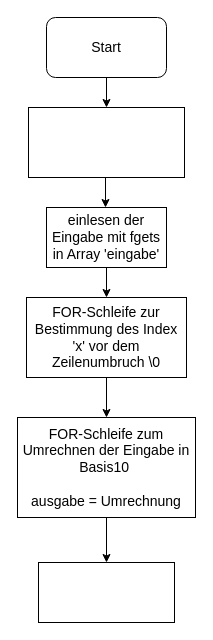
The diagram is 213 pixels wide and 640 high, and some of its shapes have lost their labels. Each missing label, with the centre of its shape:
Ausgabe: "In Basis 10: 'ausgabe'": point (106, 592)
char eingabe [21] int k=0 int x=0 int asugabe=0: point (106, 142)
